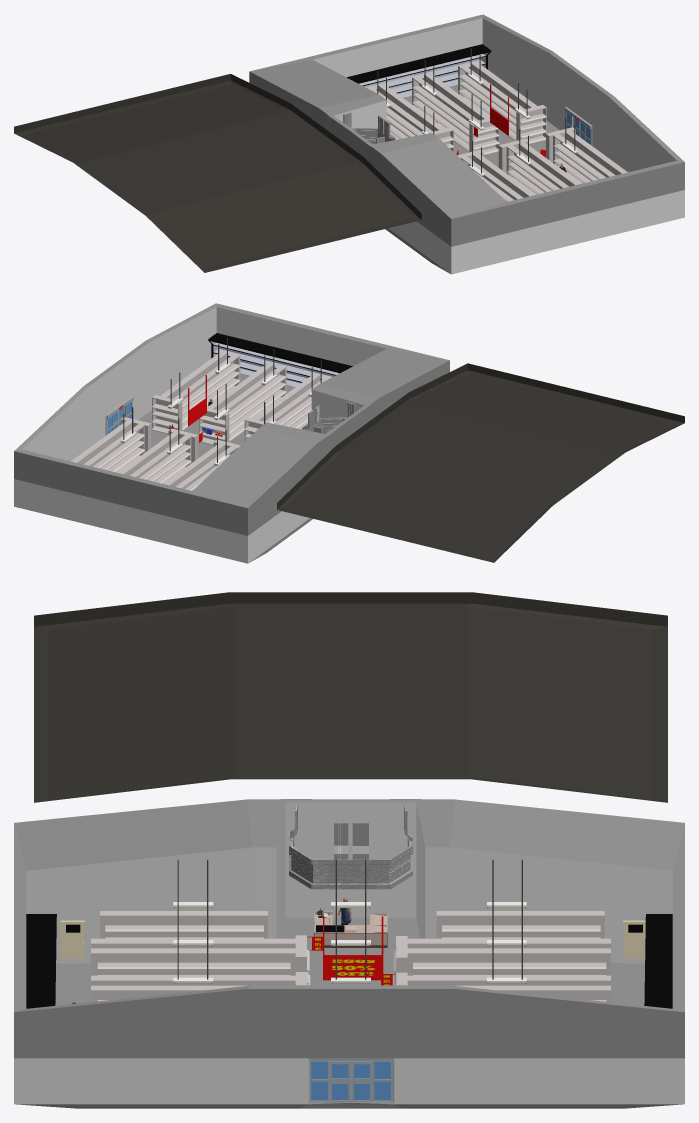
The model's file is panicRoomMap_Updated.fbx.
The picture shows the model from 3 angles, top to bottom: view 1: azimuth 30°, elevation 25°; view 2: azimuth 150°, elevation 25°; view 3: azimuth 270°, elevation 25°; orthographic projection. The views are drawn at different scales.
Visible parts, largest first — view 1: Room, Roof, Shelf.001, Cube.010, Cube.011, Cube.014, Cube.015, Cube.008, Cube.022, Cube.023, Cube.005, Cube.004 (+6 smaller); view 2: Room, Roof, Shelf, Cube.014, Cube.015, Cube.011, Cube.010, Cube.012, Cube.017, Cube.016, Cube.001, Cube (+6 smaller); view 3: Room, Roof, Cube.002, Cube.006, overhang, Cube.007, Cube.003, Shelf, Shelf.001, Cube.014, Cube.010, Cube.012 (+11 smaller).
Boxes of the visible parts, x1,y1,x2,y2 form: Room: [249, 14, 684, 274]; Roof: [14, 74, 421, 272]; Shelf.001: [347, 44, 491, 97]; Cube.010: [412, 75, 478, 151]; Cube.011: [458, 64, 524, 140]; Cube.014: [506, 145, 568, 194]; Cube.015: [553, 134, 615, 183]; Cube.008: [367, 87, 432, 139]; Cube.022: [516, 105, 546, 144]; Cube.023: [469, 118, 499, 155]; Cube.005: [471, 61, 537, 108]; Cube.004: [424, 73, 489, 120]; Room: [14, 303, 449, 563]; Roof: [277, 363, 684, 562]; Shelf: [208, 333, 352, 386]; Cube.014: [219, 365, 286, 441]; Cube.015: [173, 354, 240, 430]; Cube.011: [83, 424, 145, 472]; Cube.010: [130, 435, 191, 483]; Cube.012: [265, 376, 330, 429]; Cube.017: [152, 395, 182, 433]; Cube.016: [199, 407, 229, 444]; Cube.001: [160, 351, 226, 398]; Cube: [207, 362, 274, 410]; Room: [14, 799, 684, 1108]; Roof: [34, 592, 667, 802]; Cube.002: [91, 948, 295, 975]; Cube.006: [406, 948, 610, 975]; overhang: [289, 805, 412, 889]; Cube.007: [436, 911, 604, 938]; Cube.003: [100, 911, 267, 938]; Shelf: [26, 914, 56, 1008]; Shelf.001: [644, 914, 672, 1008]; Cube.014: [91, 975, 295, 985]; Cube.010: [407, 975, 610, 985]; Cube.012: [91, 938, 295, 948].
Bounding box in the file's own units: 20301 × 3264 × 14966.
